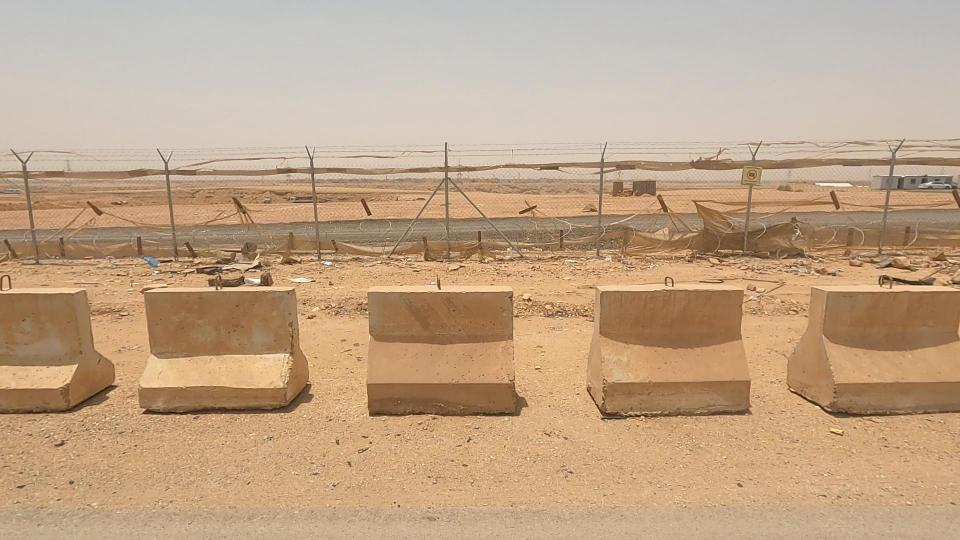GARBAGE: (162, 235, 321, 299), (829, 233, 936, 287), (114, 236, 174, 282), (288, 243, 354, 284), (767, 248, 828, 291), (272, 257, 323, 300)
